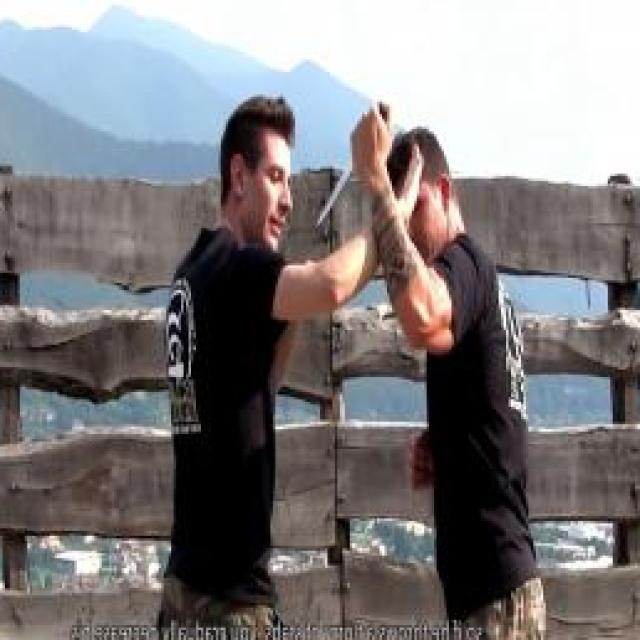knife: (314, 94, 397, 233)
